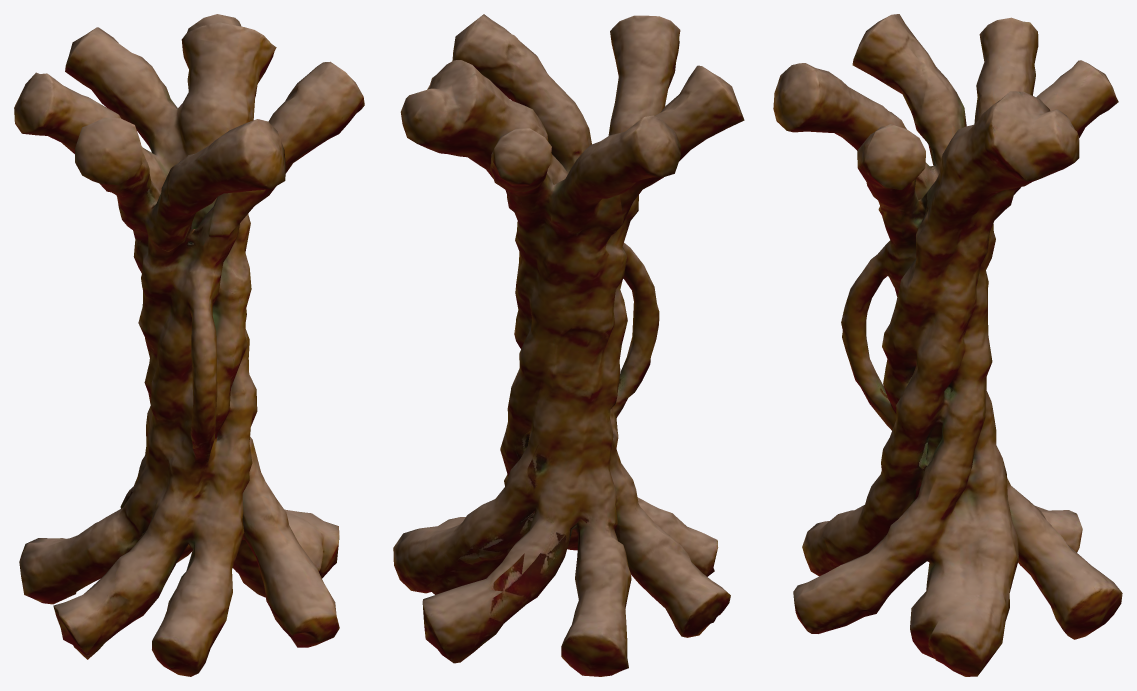
File: rpillar_b.glb
The picture shows the model from 3 angles, left to right: view 1: azimuth 30°, elevation 25°; view 2: azimuth 150°, elevation 25°; view 3: azimuth 270°, elevation 25°; orthographic projection.
Parts seen in each view (by area): view 1: bark; view 2: bark; view 3: bark.
Part boxes in pixels (left/top/right/bottom): bark: left=14, top=14, right=364, bottom=676; bark: left=393, top=14, right=744, bottom=676; bark: left=773, top=14, right=1122, bottom=676.
Bounding box in the file's own units: 0.7418 × 1.32 × 0.7467.
Materials: 1 (1 with a texture image).
